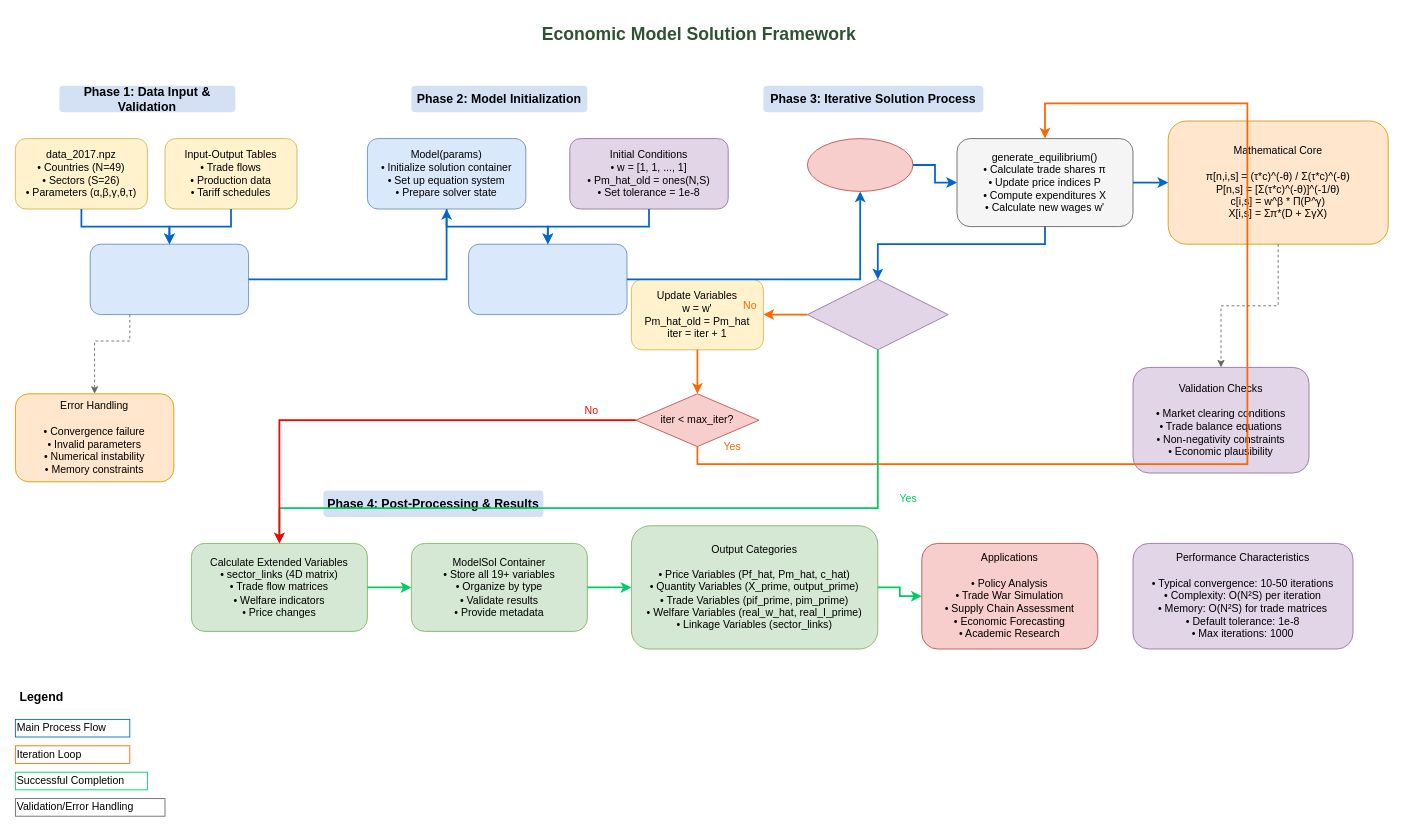
The diagram is 1404 pixels wide and 832 high, and some of its shapes have lost their labels. The centre of each missing label's shape, as x and y in pixels:
Convergence Check max|w' - w| < tolerance?: (877,314)
ModelParams • Validate dimensions • Check consistency • Apply calibration: (169,279)
ModelSolver • Configure convergence • Set max iterations • Initialize monitors: (547,279)
Start Iteration iter = 1: (860,164)
